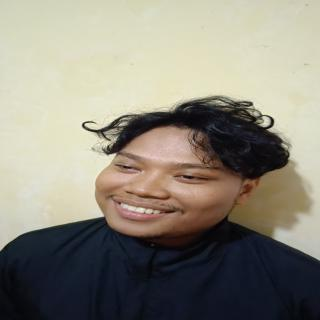Senang: (85, 113, 243, 246), (84, 112, 85, 113)
